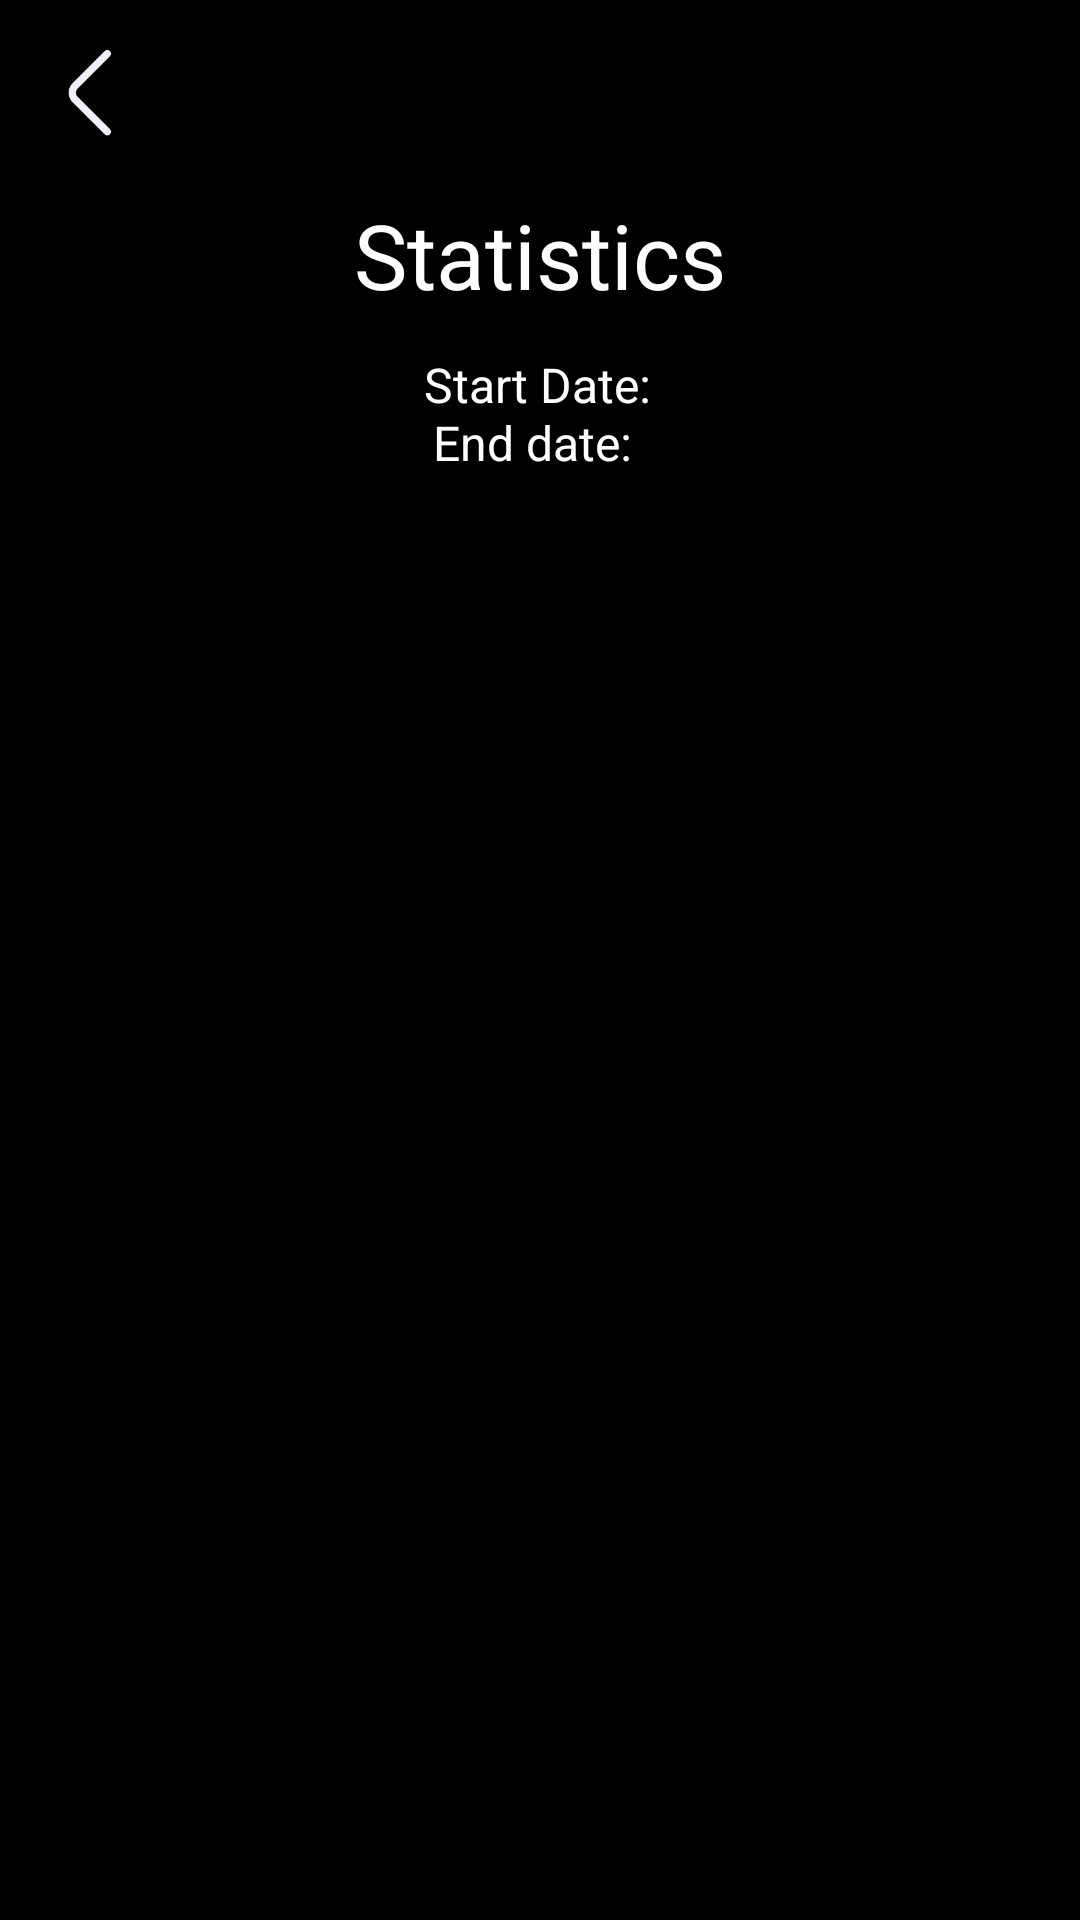

Named icons in this screenshot (1080×1920) and their centers, point (x, y):
back: point (89, 92)
